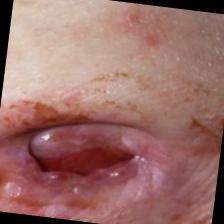pressure-wound: (0, 83, 162, 210)
